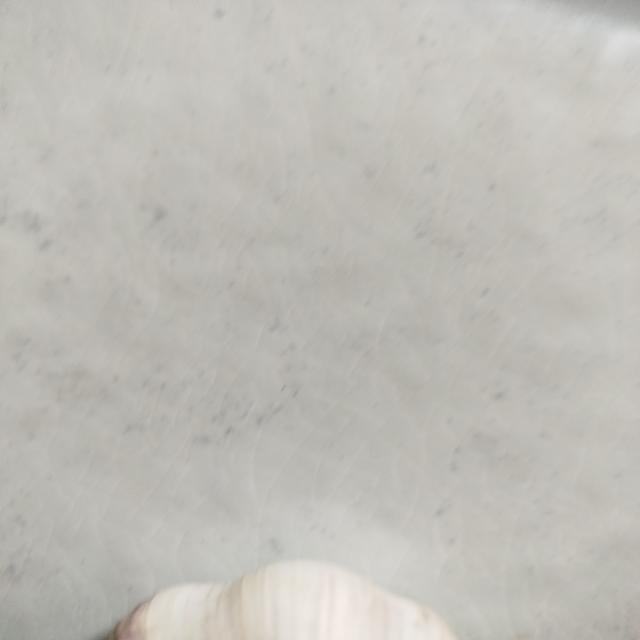garlic: (110, 558, 459, 639)
